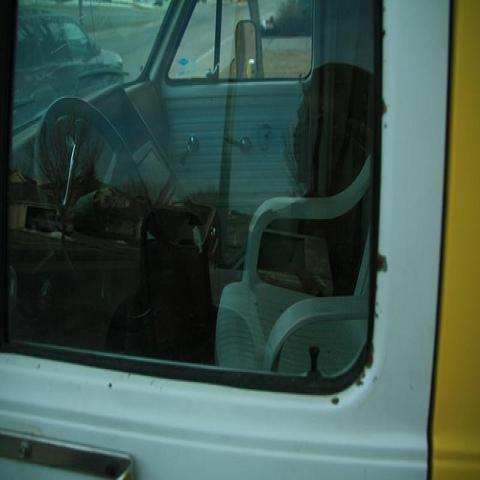car: (9, 9, 127, 123)
truck: (0, 0, 479, 479)
